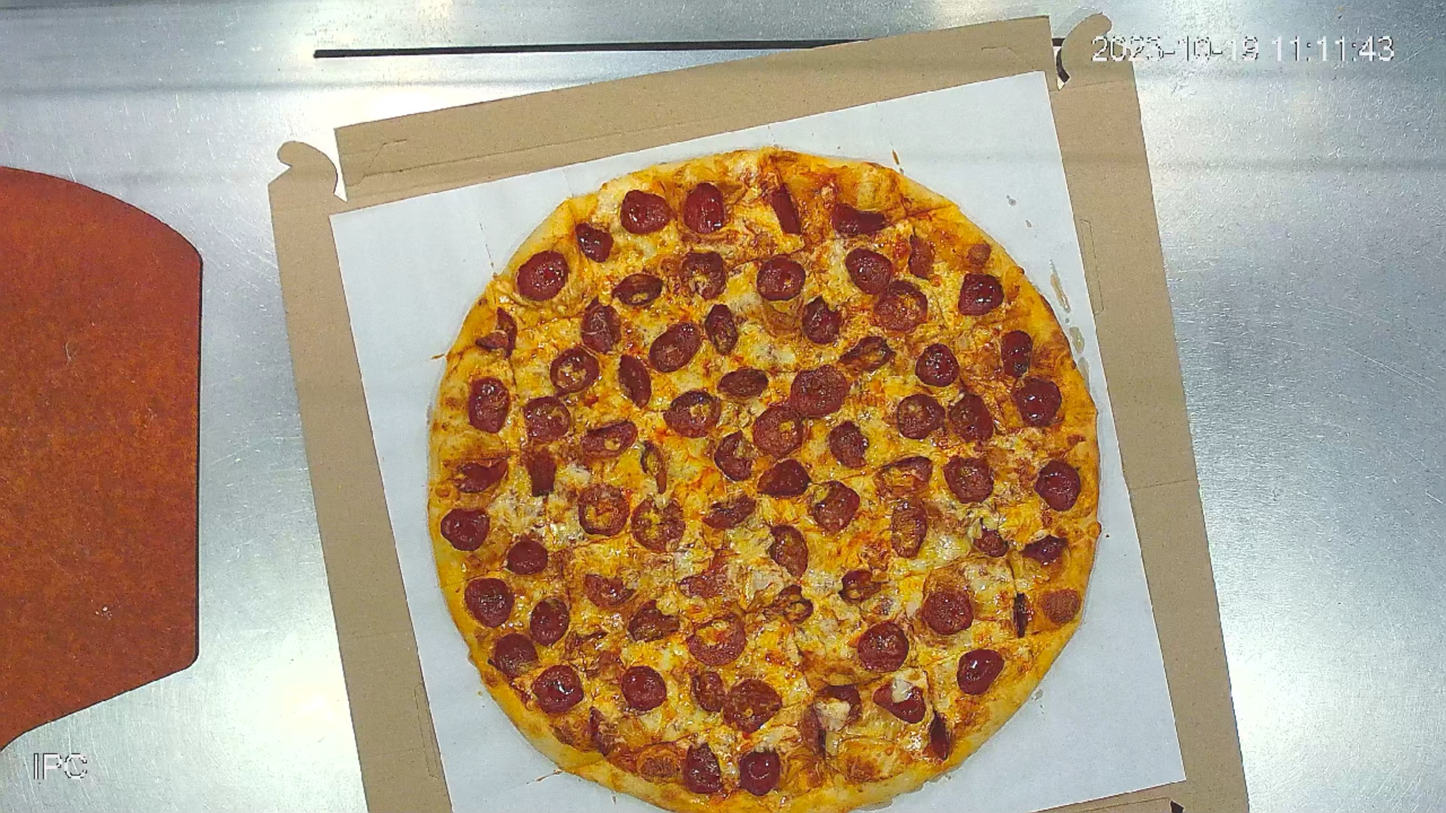pepperoni: (424, 143, 1101, 808)
